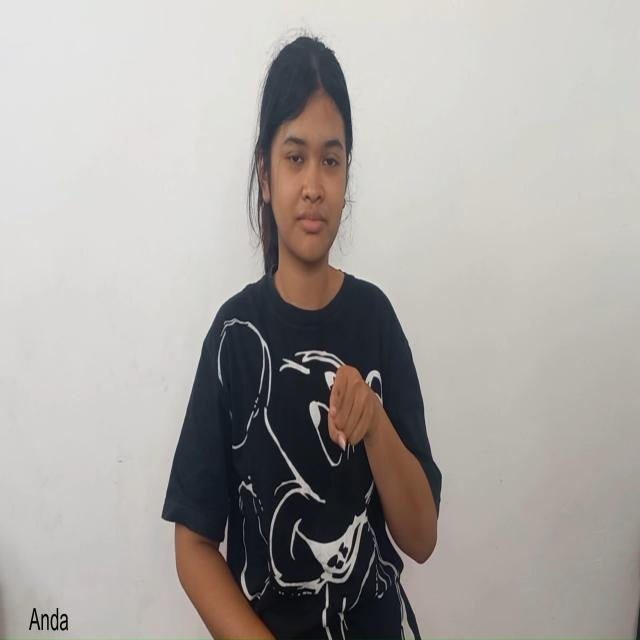Anda -BISINDO-: (298, 324, 395, 486)
